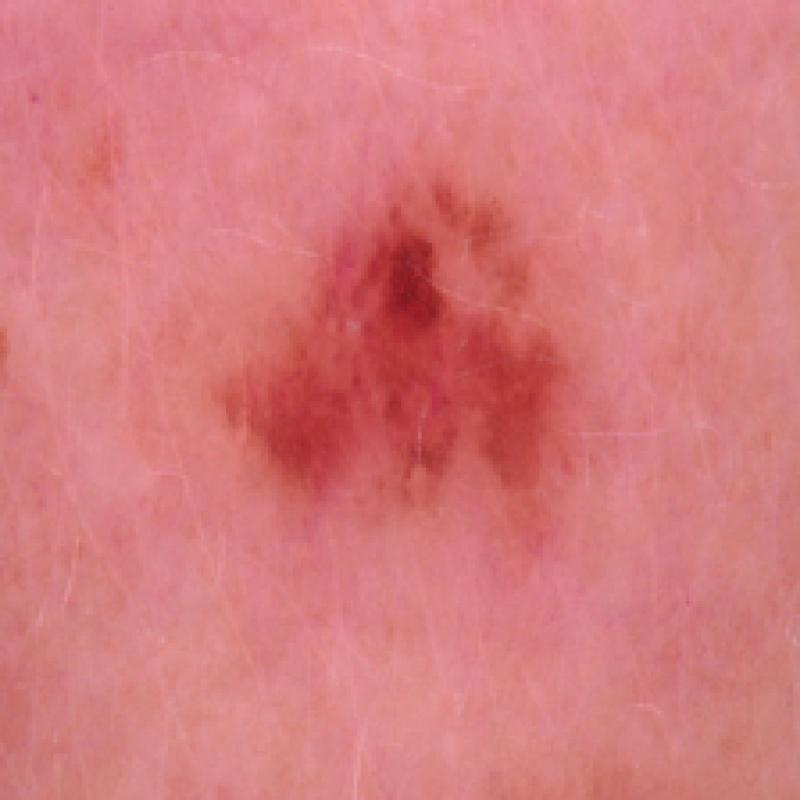benign: (194, 147, 594, 576)
